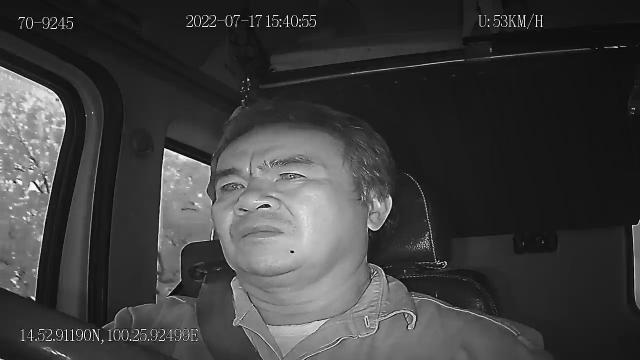SafeDriving: (270, 162, 314, 189), (212, 172, 250, 199)
Seatbelt: (194, 268, 266, 360)
